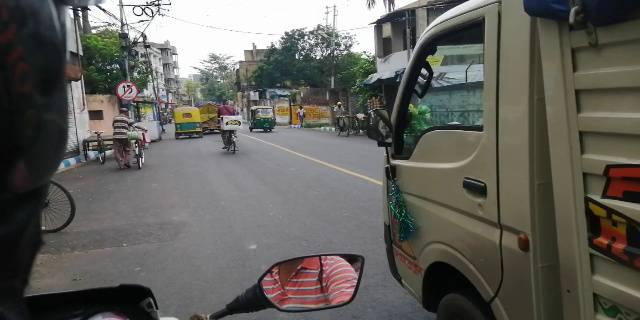Autorickshaw: (170, 101, 206, 143), (247, 103, 279, 134)
Cycle: (211, 98, 241, 157), (128, 120, 151, 172)
Minitruck: (369, 1, 640, 320)
